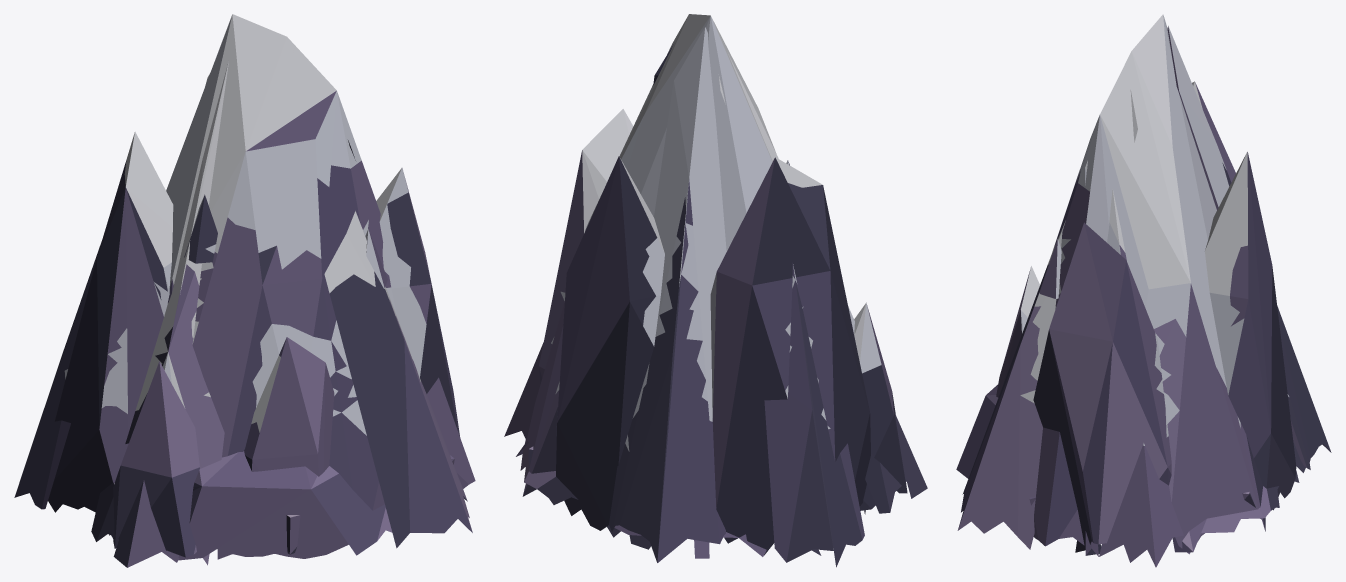
File: mtn_peak_a.glb
The picture shows the model from 3 angles, left to right: view 1: azimuth 30°, elevation 25°; view 2: azimuth 150°, elevation 25°; view 3: azimuth 270°, elevation 25°; orthographic projection. The views are drawn at different scales.
Parts seen in each view (by area): view 1: mtn_peak_a; view 2: mtn_peak_a; view 3: mtn_peak_a.
Boxes of the visible parts, <box> form: mtn_peak_a: <box>14,14,475,567</box>; mtn_peak_a: <box>504,14,927,567</box>; mtn_peak_a: <box>956,14,1331,567</box>.
Bounding box in the file's own units: 80.2 × 96.65 × 71.17.
